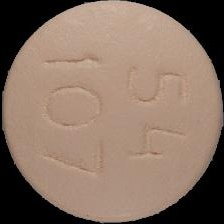68084-640: (0, 0, 224, 224)
